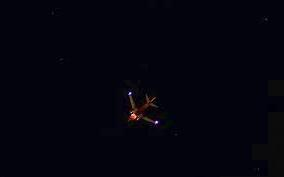Plane: (122, 84, 166, 145)
